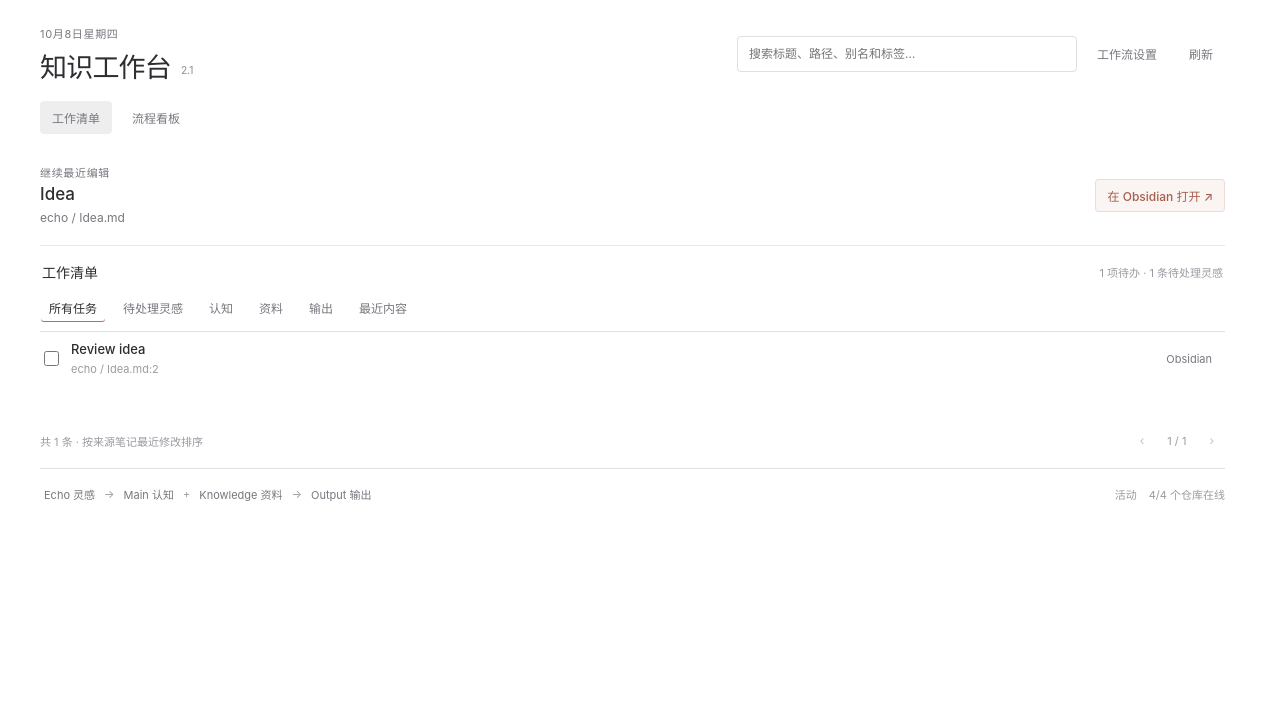
Test: WorkspacePage › shows removed preview state and preserves manual refresh after listener failure
Click the button "待处理灵感". click: [153, 308]
box: [114,292,192,323]
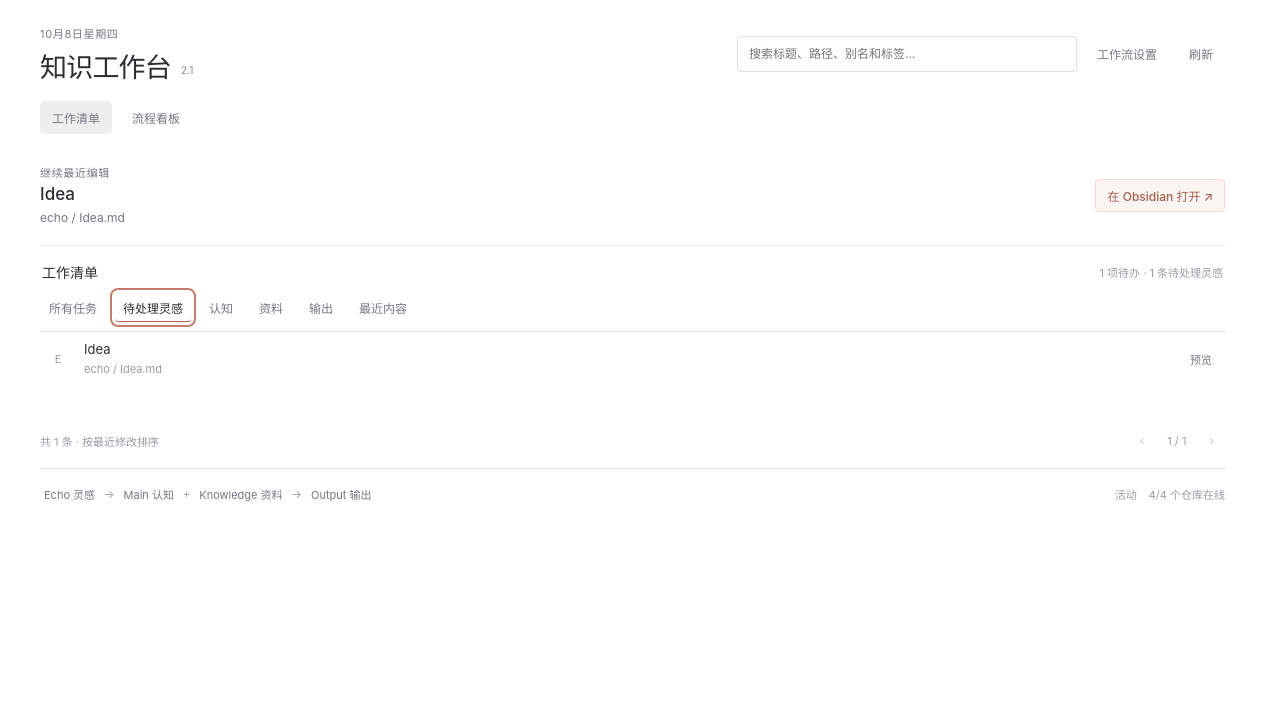
Click the button "Idea". click: [97, 349]
box: [84,341,1169,358]
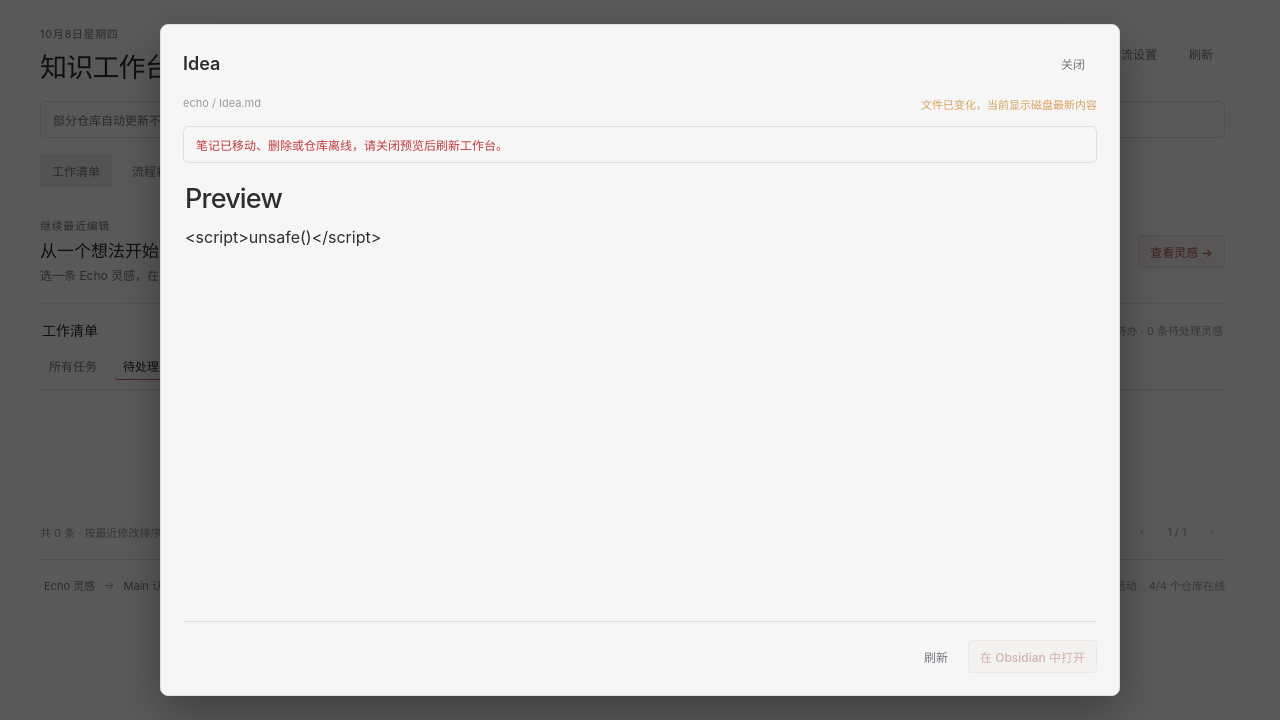
Now the text "笔记已移动、删除或仓库离线，请关闭预览后刷新工作台。" is shown, box [183,126,1097,163]
Now the button "在 Obsidian 中打开" is disabled, box [968,640,1097,673]
Now the text "部分仓库自动更新不可用，请手动刷新。" is shown, box [40,101,1225,138]
